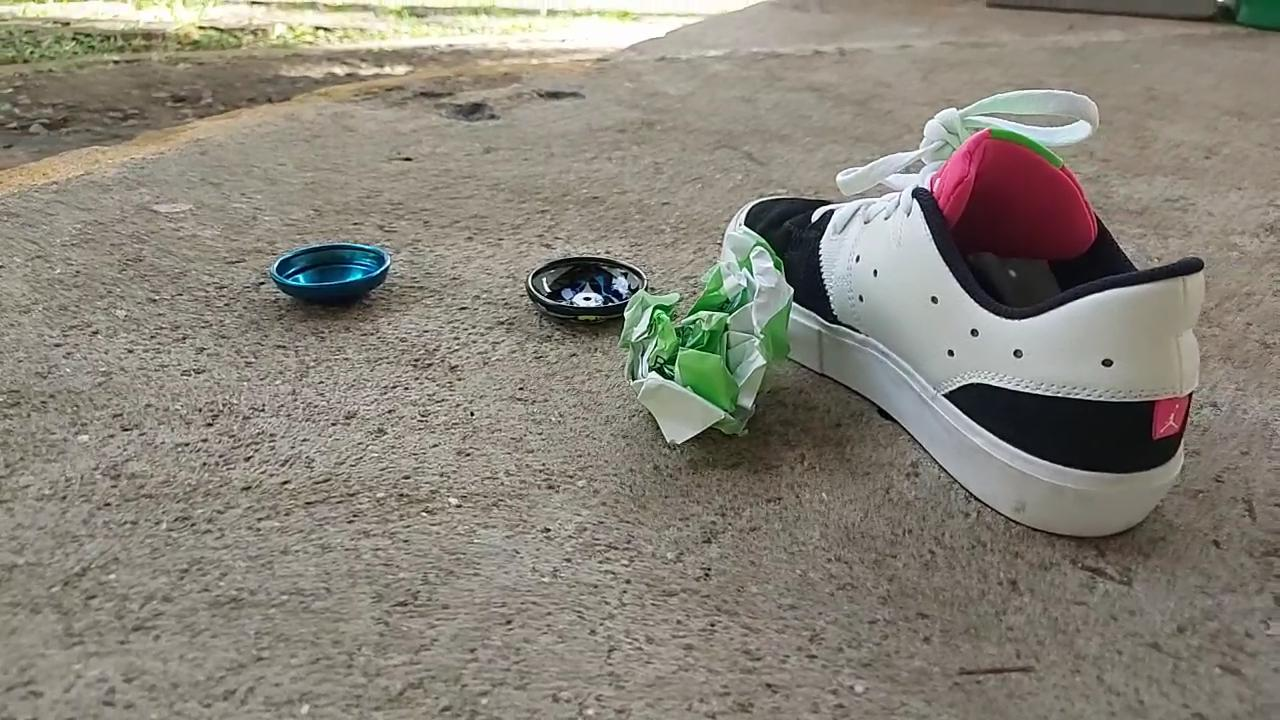paper: (619, 215, 791, 442)
